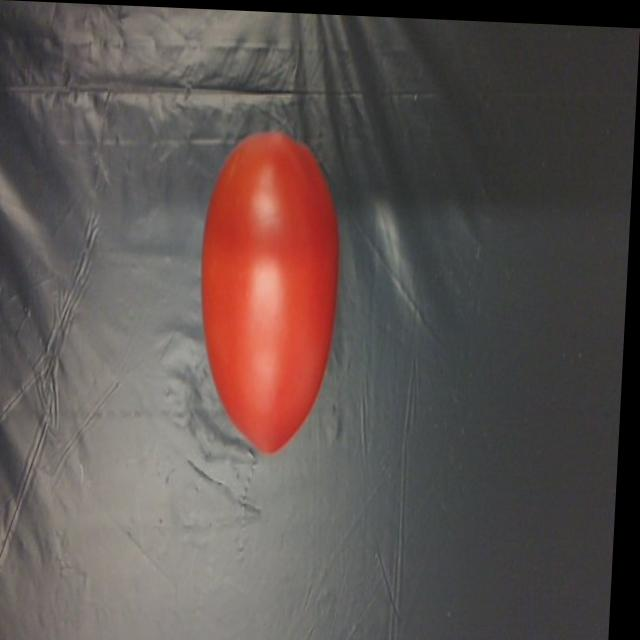kirmizi: (190, 120, 363, 474)
